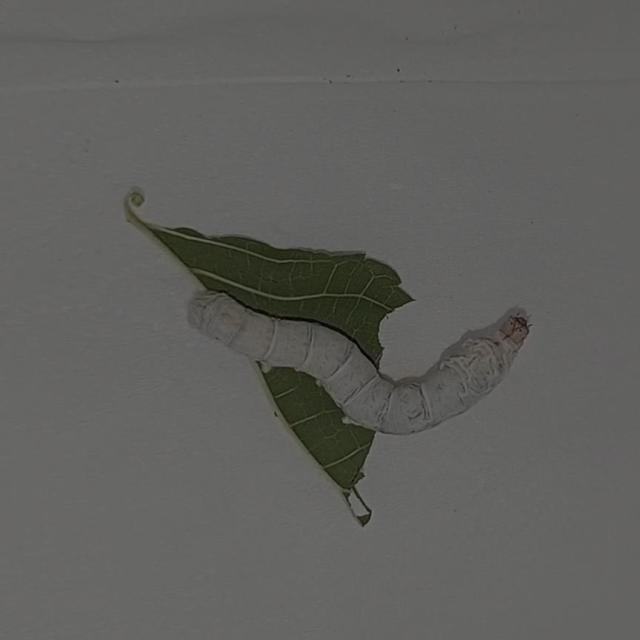Healthy: (150, 243, 556, 482)
